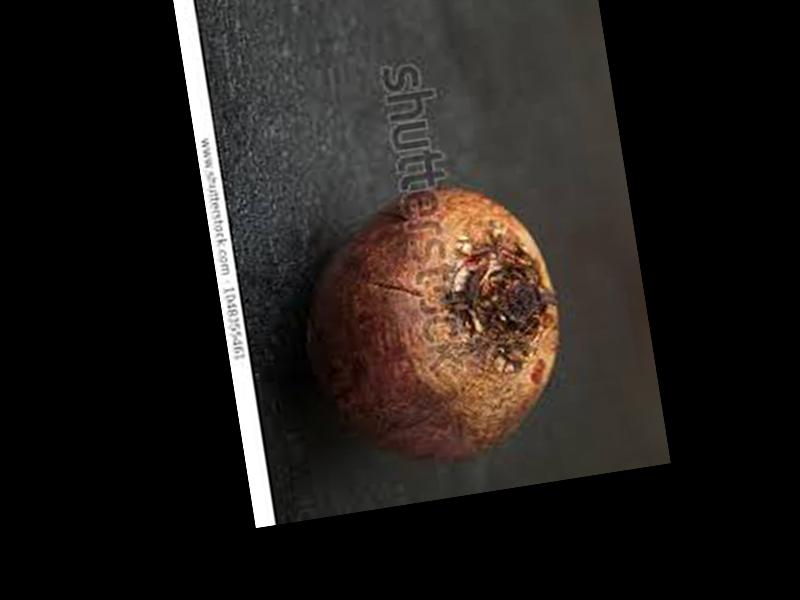Beet: (290, 175, 577, 484)
